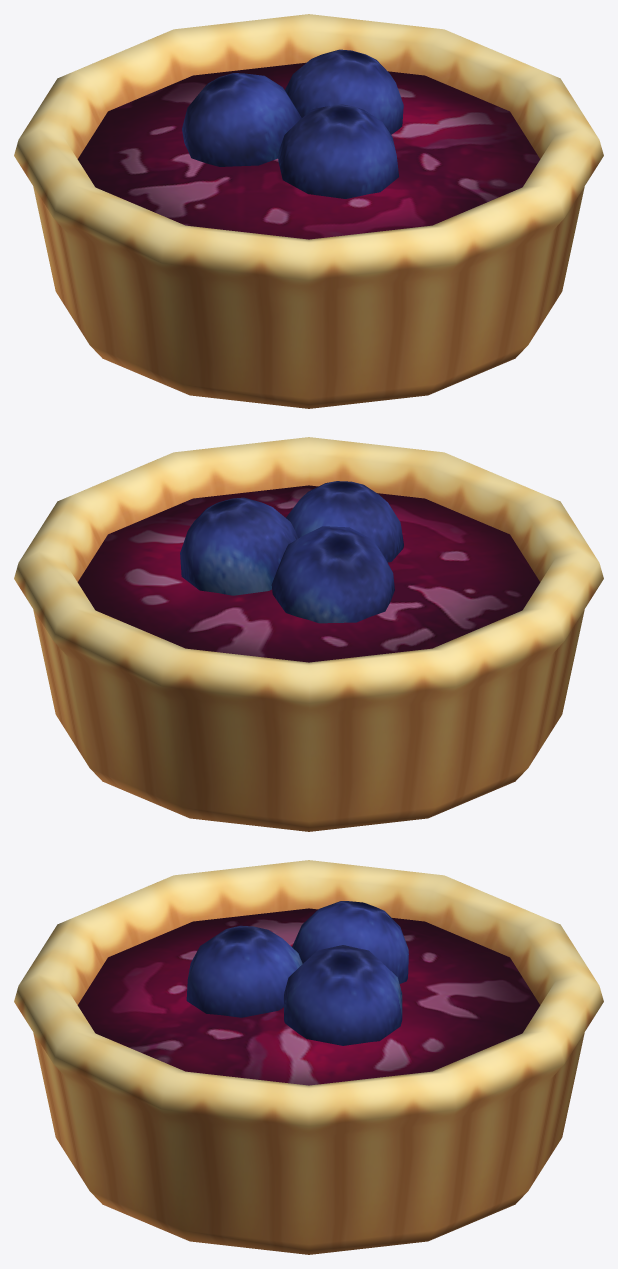
Rendered from 009-Tarts_02.FBX.
3 views of the same model, one above another, from view 1: azimuth 30°, elevation 25°; view 2: azimuth 150°, elevation 25°; view 3: azimuth 270°, elevation 25° (orthographic).
Parts seen in each view (by area): view 1: 009-Tarts_02; view 2: 009-Tarts_02; view 3: 009-Tarts_02.
Boxes of the visible parts, x1=… form: 009-Tarts_02: x1=14, y1=14, x2=603, y2=408; 009-Tarts_02: x1=14, y1=437, x2=603, y2=831; 009-Tarts_02: x1=14, y1=860, x2=603, y2=1254.
Bounding box in the file's own units: 13.42 × 5.72 × 13.42.
